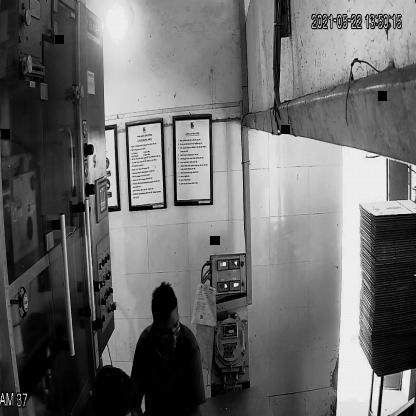goggles: (154, 320, 183, 344)
